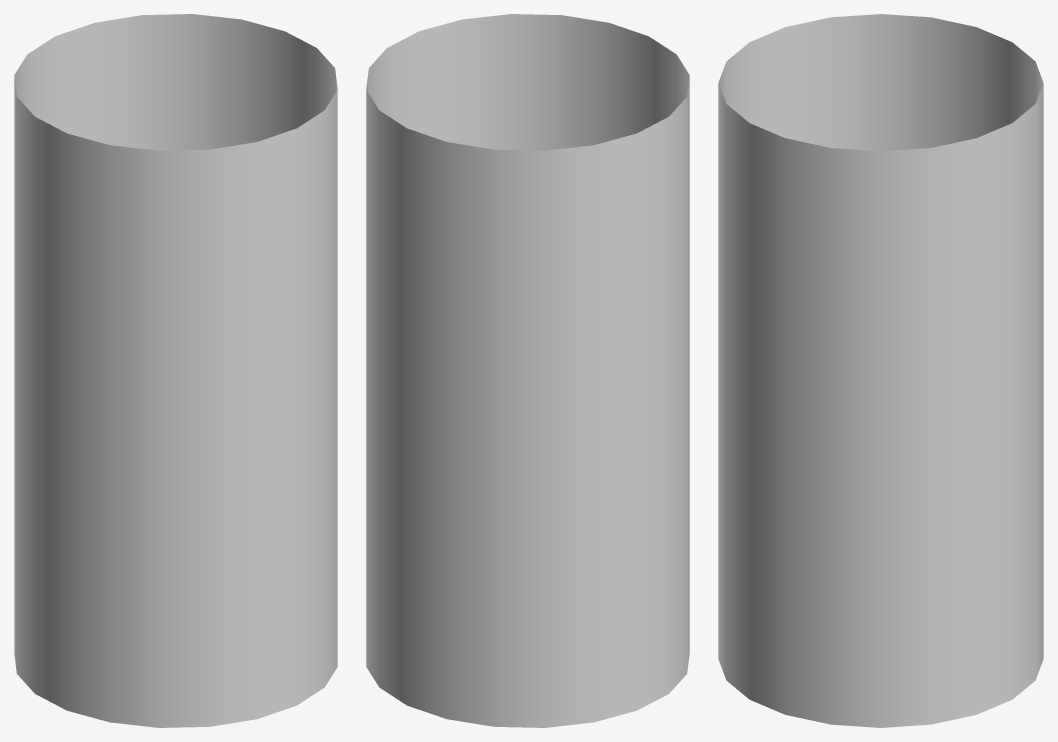
Rendered from Props_Pod.006.fbx.
3 renders of one model, left to right at view 1: azimuth 30°, elevation 25°; view 2: azimuth 150°, elevation 25°; view 3: azimuth 270°, elevation 25°, orthographic.
Visible parts, largest first — view 1: Props_Pod.006; view 2: Props_Pod.006; view 3: Props_Pod.006.
Boxes of the visible parts, x1,y1,x2,y2 form: Props_Pod.006: (14, 14, 337, 727); Props_Pod.006: (366, 14, 689, 727); Props_Pod.006: (718, 14, 1043, 727).
Bounding box in the file's own units: 1.24 × 2.43 × 1.24.
